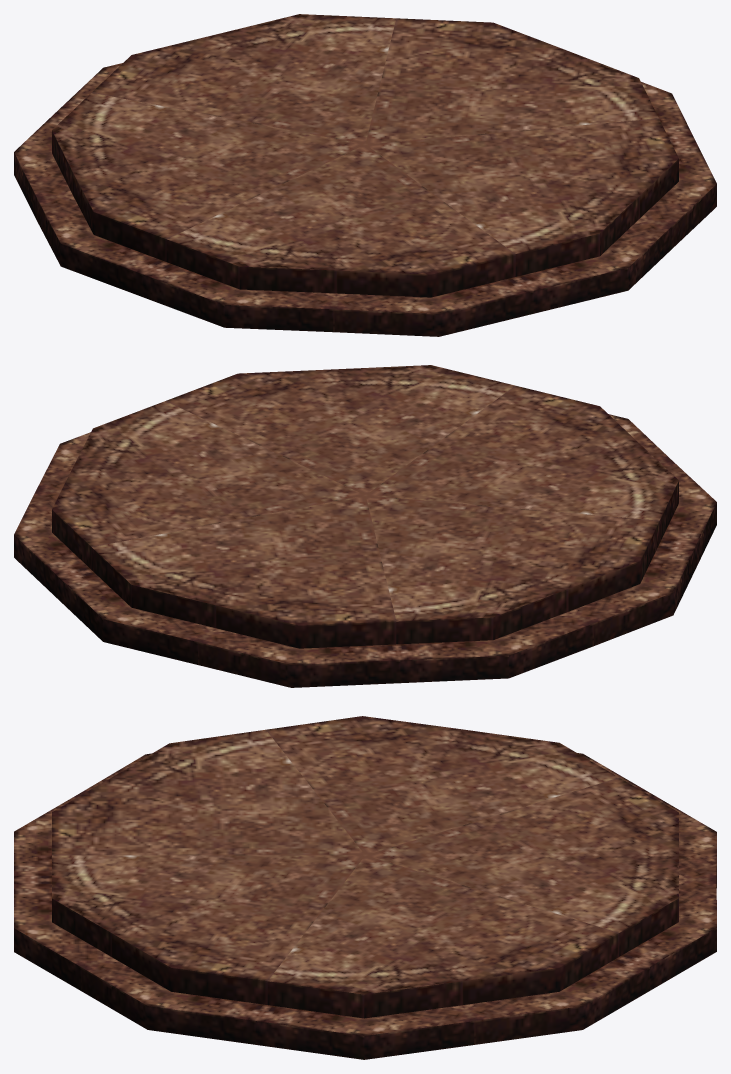
File: warpgate02_01.fbx
3 renders of one model, top to bottom at view 1: azimuth 30°, elevation 25°; view 2: azimuth 150°, elevation 25°; view 3: azimuth 270°, elevation 25°, orthographic. The views are drawn at different scales.
Visible parts, largest first — view 1: gate02; view 2: gate02; view 3: gate02.
Boxes of the visible parts, <box> form: gate02: <box>14,14,716,336</box>; gate02: <box>14,365,716,687</box>; gate02: <box>14,716,716,1059</box>.
Size of the model in its own units: 12.17 by 0.8804 by 11.58.
